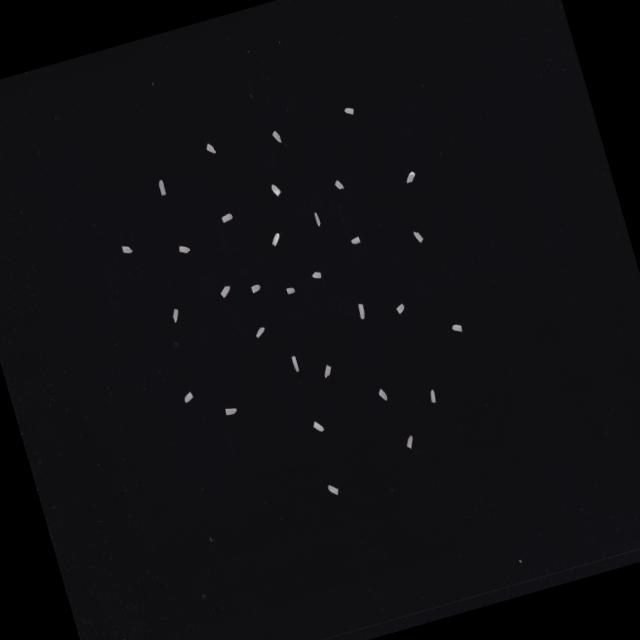Not: (218, 284, 232, 299), (402, 170, 417, 184), (320, 362, 333, 378), (310, 419, 324, 433), (269, 182, 281, 198), (402, 434, 414, 450), (411, 228, 423, 244), (268, 232, 281, 246), (356, 302, 366, 320), (326, 482, 338, 497), (376, 387, 388, 402), (156, 179, 166, 196), (270, 129, 281, 144), (204, 142, 215, 156), (169, 308, 180, 322), (426, 389, 436, 404), (120, 243, 132, 255), (177, 243, 189, 255), (253, 326, 265, 338), (450, 322, 462, 334), (182, 391, 194, 403), (223, 406, 237, 416), (220, 212, 232, 223), (290, 356, 298, 372), (333, 178, 343, 190), (342, 106, 354, 116), (394, 302, 404, 314), (248, 284, 260, 294), (312, 212, 320, 226), (349, 235, 360, 245), (310, 270, 321, 280), (285, 286, 294, 294)
